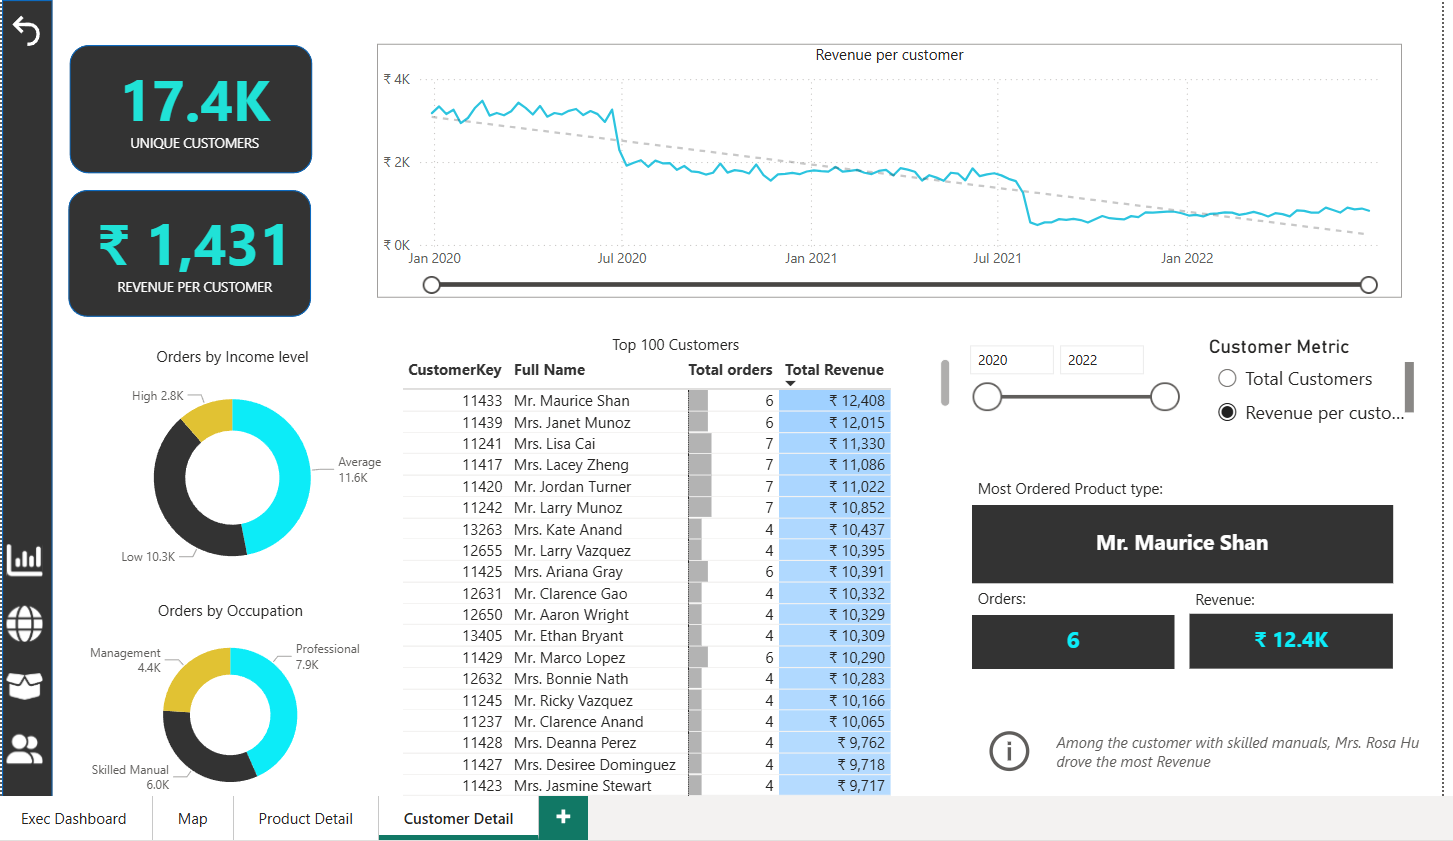

What the dashboard file says about the page in this screenshot:
{"tool":"powerbi","page":{"name":"Customer Detail","canvas":[1280,720],"ordinal":3},"visuals":[{"type":"lineChart","fields":{"Y":["Measure Table.Average revenue per customer"],"Category":["Calendar Lookup.Date Hierarchy.Start of Year","Calendar Lookup.Date Hierarchy.Start of Month","Calendar Lookup.Date Hierarchy.Start of Week"]},"box":[333.8,39.1,911,225],"z":0},{"type":"shape","box":[0,0,45,720.2],"z":1000},{"type":"group","id":"g1","title":"KPI cards of customer","box":[53.8,8.6,236.4,299.7],"z":2000},{"type":"shape","box":[59.7,168.8,215.9,112.7],"z":2000,"group":"g1"},{"type":"shape","box":[60.2,39.3,215.9,114.1],"z":3000,"group":"g1"},{"type":"donutChart","title":"Orders by Income level","fields":{"Category":["Customer Lookup.Income level"],"Y":["Measure Table.Total orders"]},"box":[59.9,308.2,289.8,216.4],"z":3000},{"type":"card","fields":{"Values":["Measure Table.Average revenue per customer"]},"box":[54.1,136.8,236.1,171.6],"z":4000,"group":"g1"},{"type":"donutChart","title":"Orders by Occupation","fields":{"Y":["Measure Table.Total orders"],"Category":["Customer Lookup.Occupation"]},"box":[72.1,533.2,261.7,187.1],"z":4000},{"type":"card","fields":{"Values":["Measure Table.Total Customers"]},"box":[53.8,8.6,236.1,171.6],"z":5000,"group":"g1"},{"type":"tableEx","title":"Top 100 Customers","fields":{"Values":["Customer Lookup.CustomerKey","Customer Lookup.Full Name","Measure Table.Total orders","Measure Table.Total Revenue"]},"box":[349.7,297.1,497.7,423.1],"z":5000},{"type":"card","fields":{"Values":["Min(Customer Lookup.Full Name)"]},"box":[862.1,448.8,374.2,69.7],"z":6000},{"type":"textbox","box":[862.1,420.4,193.2,28.1],"z":7000},{"type":"card","fields":{"Values":["Measure Table.Total orders"]},"box":[862.1,546.6,179.8,47.7],"z":8000},{"type":"textbox","box":[862.1,518.2,112.5,28.1],"z":9000},{"type":"card","fields":{"Values":["Measure Table.Total Revenue"]},"box":[1055.3,545.4,181,48.9],"z":10000},{"type":"textbox","box":[1055.3,518.5,160.2,28.1],"z":11000},{"type":"slicer","fields":{"Values":["Calendar Lookup.Year"]},"box":[847.5,296.7,207.5,86.8],"z":12000},{"type":"actionButton","box":[871.9,644.4,408.4,46.5],"z":13000},{"type":"actionButton","box":[3.7,8.6,36.7,36.7],"z":14000},{"type":"actionButton","box":[0,478.1,45.2,40.4],"z":15000},{"type":"actionButton","box":[0,534,45.2,40.4],"z":16000},{"type":"actionButton","box":[0,589.8,45.2,40.4],"z":17000},{"type":"actionButton","box":[0,645.7,45.2,40.4],"z":18000},{"type":"slicer","title":"Customer Metric ","fields":{"Values":["Customer Metric Selection.Customer Metric Selection"]},"box":[1067.5,297.4,192.2,85.7],"z":19000}]}

Visuals, with their boxes on the page's 1280x720 design canvas (x1, y1, x2, y2). These are canvas units, not pixel positions in the 1453x841 screenshot, which may show the page scaled, cropped or inside an application window:
lineChart - Measure Table.Average revenue per customer x Calendar Lookup.Date Hierarchy.Start of Year: {"left": 334, "top": 39, "right": 1245, "bottom": 264}
shape: {"left": 0, "top": 0, "right": 45, "bottom": 720}
"KPI cards of customer" group: {"left": 54, "top": 9, "right": 290, "bottom": 308}
shape: {"left": 60, "top": 169, "right": 276, "bottom": 282}
shape: {"left": 60, "top": 39, "right": 276, "bottom": 153}
"Orders by Income level" donutChart: {"left": 60, "top": 308, "right": 350, "bottom": 525}
card - Measure Table.Average revenue per customer: {"left": 54, "top": 137, "right": 290, "bottom": 308}
"Orders by Occupation" donutChart: {"left": 72, "top": 533, "right": 334, "bottom": 720}
card - Measure Table.Total Customers: {"left": 54, "top": 9, "right": 290, "bottom": 180}
"Top 100 Customers" tableEx: {"left": 350, "top": 297, "right": 847, "bottom": 720}
card - Min(Customer Lookup.Full Name): {"left": 862, "top": 449, "right": 1236, "bottom": 518}
textbox: {"left": 862, "top": 420, "right": 1055, "bottom": 448}
card - Measure Table.Total orders: {"left": 862, "top": 547, "right": 1042, "bottom": 594}
textbox: {"left": 862, "top": 518, "right": 975, "bottom": 546}
card - Measure Table.Total Revenue: {"left": 1055, "top": 545, "right": 1236, "bottom": 594}
textbox: {"left": 1055, "top": 518, "right": 1216, "bottom": 547}
slicer - Calendar Lookup.Year: {"left": 848, "top": 297, "right": 1055, "bottom": 384}
actionButton: {"left": 872, "top": 644, "right": 1280, "bottom": 691}
actionButton: {"left": 4, "top": 9, "right": 40, "bottom": 45}
actionButton: {"left": 0, "top": 478, "right": 45, "bottom": 518}
actionButton: {"left": 0, "top": 534, "right": 45, "bottom": 574}
actionButton: {"left": 0, "top": 590, "right": 45, "bottom": 630}
actionButton: {"left": 0, "top": 646, "right": 45, "bottom": 686}
"Customer Metric " slicer: {"left": 1068, "top": 297, "right": 1260, "bottom": 383}
